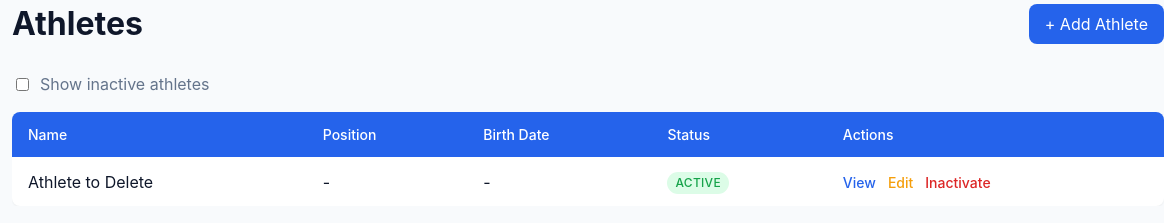
it: AthletesPage › shows error if inactivate fails
The image size is (1164, 223).
Expected: the text "Athlete to Delete" is shown, [12,157,307,206]
Click the button "Inactivate": x=958, y=182 [925,174,991,190]
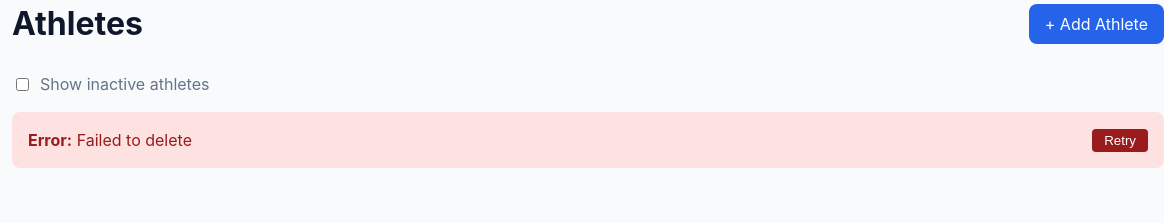
Expected: the text "Error: Failed to delete" is shown, [28,128,192,152]
